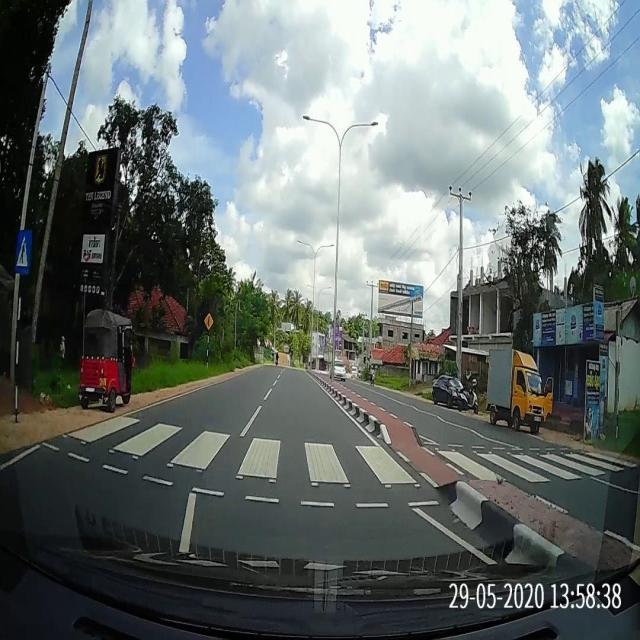Crosswalk: (34, 409, 639, 515)
